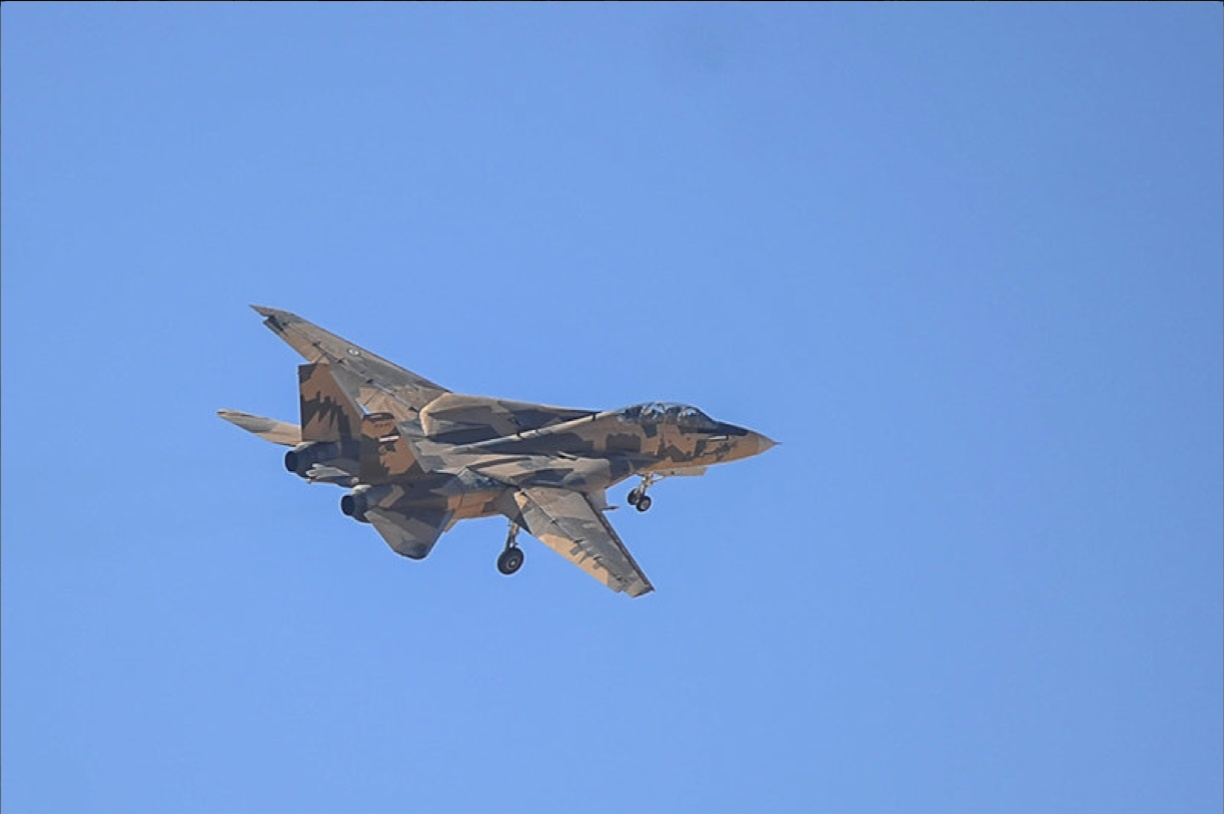F14: (215, 303, 784, 599)
